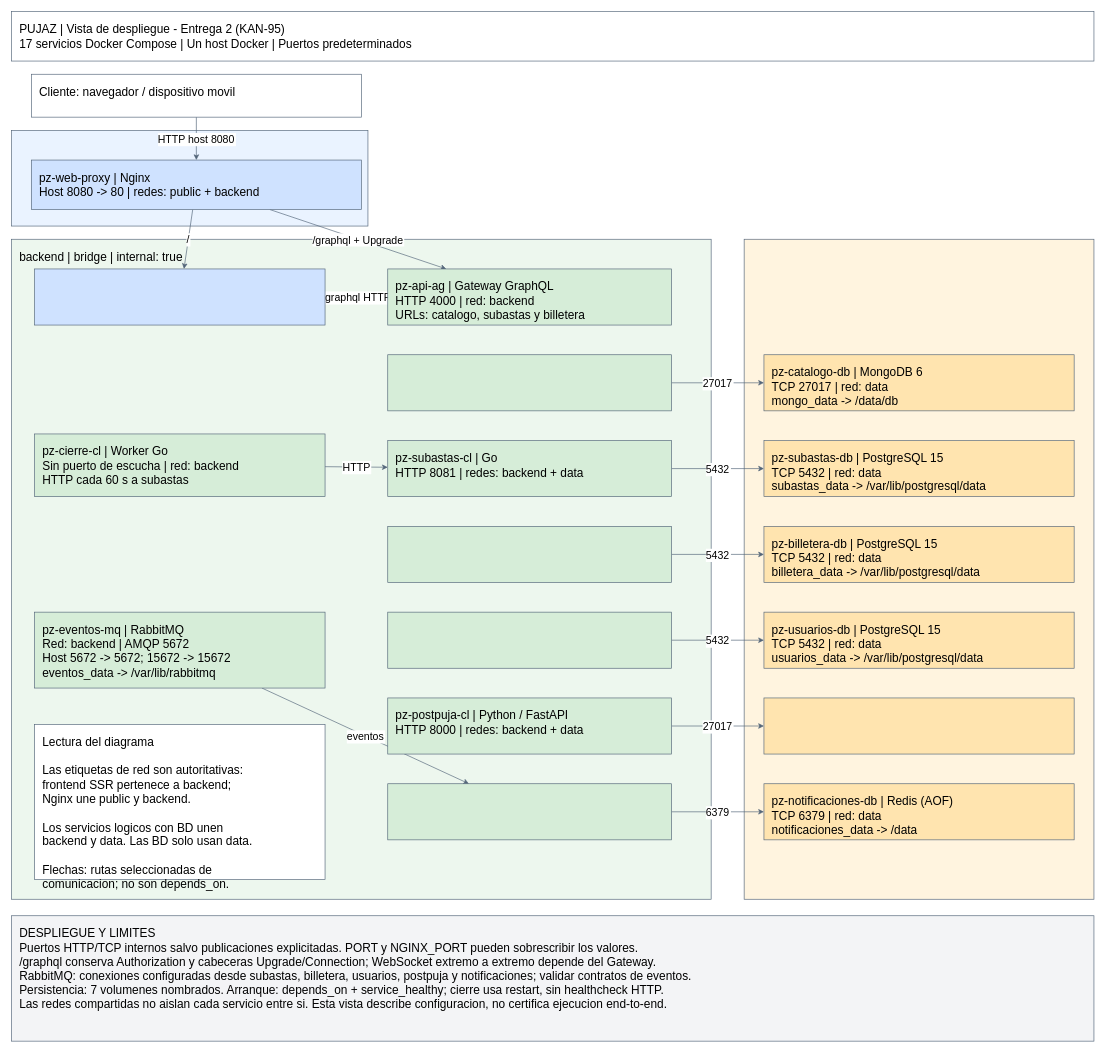
Image size: 1106x1053. Some labels were removed from this diagram. Each missing label, with the box of its shape:
data | bridge | internal: true | sin puertos publicados: (743, 239, 1094, 899)
public | bridge | entrada HTTP: (11, 130, 368, 226)
pz-billetera-cl | Go HTTP 8082 | redes: backend + data: (387, 526, 672, 582)
pz-catalogo-cl | Python / FastAPI HTTP 8000 | redes: backend + data: (387, 354, 672, 411)
pz-notificaciones-cl | Python / FastAPI HTTP 8000 | redes: backend + data: (387, 783, 672, 840)
pz-postpuja-db | MongoDB 6 TCP 27017 | red: data postpuja_data -> /data/db: (763, 697, 1074, 754)
pz-usuarios-cl | Java / Spring Boot HTTP 8080 | redes: backend + data: (387, 611, 672, 668)
pz-web-fe | Next.js SSR HTTP 3000 | red: backend: (34, 268, 325, 325)
